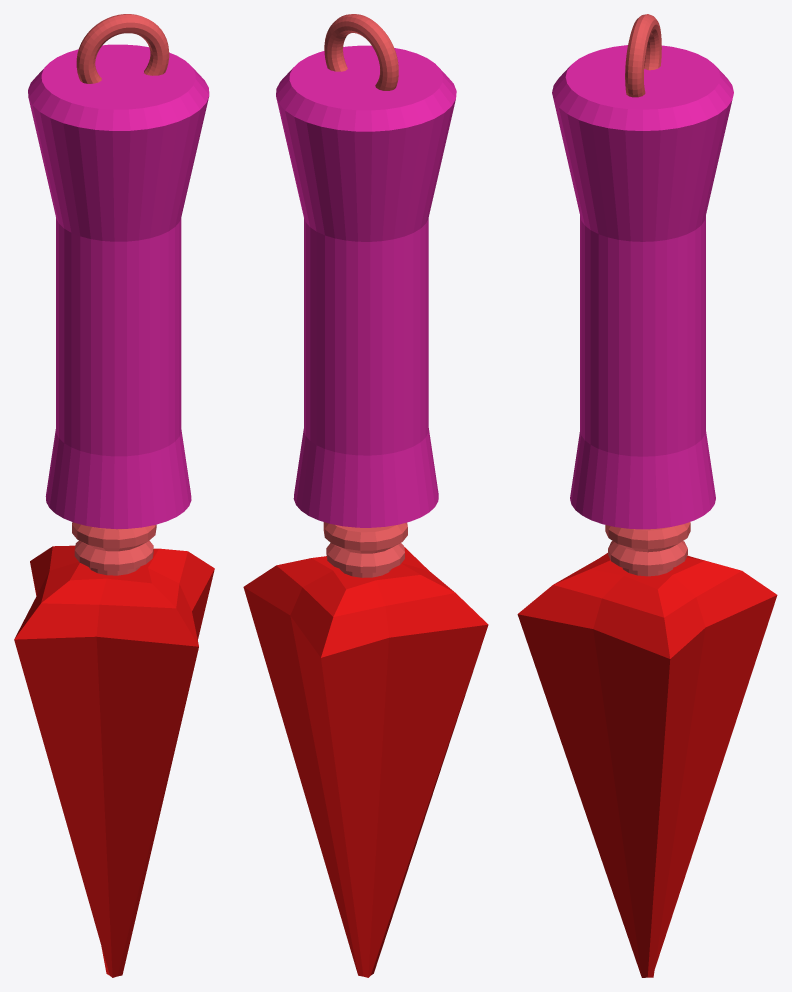
File: kunai pocisk.fbx
The picture shows the model from 3 angles, left to right: view 1: azimuth 30°, elevation 25°; view 2: azimuth 150°, elevation 25°; view 3: azimuth 270°, elevation 25°; orthographic projection.
Parts seen in each view (by area): view 1: Cylinder.010; view 2: Cylinder.010; view 3: Cylinder.010.
Part boxes in pixels (x1,y1,x2,y2): Cylinder.010: [14, 14, 214, 977]; Cylinder.010: [243, 14, 488, 977]; Cylinder.010: [517, 14, 777, 977].
Bounding box in the file's own units: 138 × 566 × 139.
